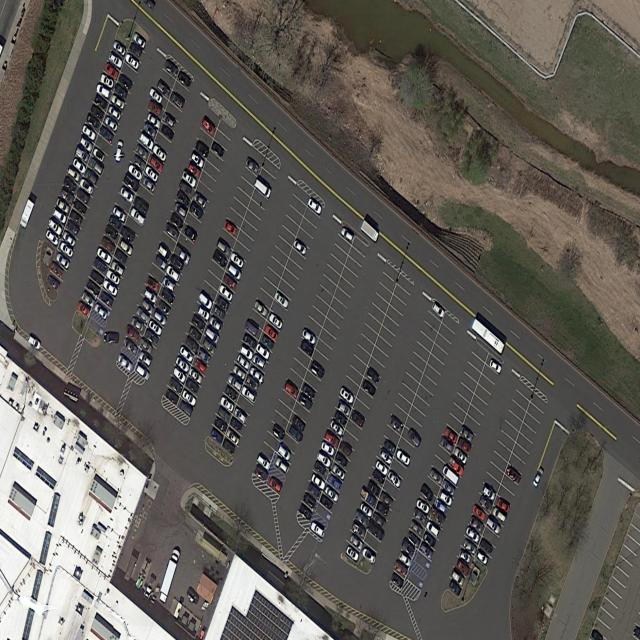large-vehicle: (472, 318, 505, 354), (160, 548, 181, 596), (19, 198, 35, 229), (361, 220, 380, 243)
small-vehicle: (254, 177, 272, 199), (360, 486, 377, 508), (130, 206, 147, 227), (124, 172, 141, 193), (447, 456, 464, 477), (442, 465, 459, 486), (430, 505, 446, 527), (174, 245, 191, 265), (88, 157, 105, 177), (133, 196, 149, 216), (369, 522, 385, 542), (241, 385, 257, 405), (453, 446, 469, 465), (189, 200, 204, 220), (216, 237, 231, 257), (201, 116, 216, 136), (401, 537, 416, 557), (407, 428, 422, 448), (96, 247, 112, 265), (181, 170, 197, 188), (227, 374, 243, 392), (219, 395, 235, 413), (316, 451, 332, 469), (532, 466, 545, 488), (198, 292, 213, 311), (125, 324, 140, 343), (118, 353, 133, 372), (175, 355, 190, 374), (45, 228, 60, 247), (59, 240, 74, 259), (81, 290, 96, 309), (152, 144, 167, 163), (104, 62, 119, 81), (355, 510, 370, 529), (324, 430, 339, 449), (389, 414, 404, 433), (308, 197, 323, 216), (157, 242, 171, 262), (228, 262, 242, 282), (420, 483, 434, 503), (339, 387, 355, 404), (103, 279, 118, 297), (166, 265, 181, 283), (119, 185, 134, 203), (144, 329, 159, 347), (245, 156, 260, 174), (135, 363, 150, 381), (55, 252, 70, 270), (48, 218, 63, 236), (79, 177, 94, 195), (139, 132, 154, 150), (149, 155, 164, 173), (170, 91, 185, 109), (108, 51, 123, 69), (349, 534, 364, 552), (362, 547, 377, 565), (492, 506, 507, 524), (465, 526, 480, 544), (188, 367, 203, 385), (182, 389, 197, 407), (205, 327, 220, 345), (284, 380, 299, 398), (310, 361, 325, 379), (310, 521, 325, 539), (268, 476, 283, 494), (161, 287, 175, 306), (213, 250, 227, 269), (219, 284, 233, 303), (124, 337, 138, 356), (50, 260, 64, 279), (226, 428, 240, 447), (351, 409, 365, 428), (106, 269, 121, 286), (148, 319, 163, 336), (119, 239, 134, 256), (52, 207, 67, 224), (79, 136, 94, 153), (81, 124, 96, 141), (104, 115, 119, 132), (99, 126, 114, 143), (111, 93, 126, 110), (125, 53, 140, 70), (507, 467, 522, 484), (396, 449, 411, 466), (469, 515, 484, 532), (301, 328, 316, 345), (311, 474, 326, 491), (111, 259, 125, 277), (136, 306, 150, 324), (113, 205, 127, 223), (170, 253, 184, 271), (184, 225, 198, 243), (191, 152, 205, 170), (195, 140, 209, 158), (169, 377, 183, 395), (177, 189, 191, 207), (94, 303, 108, 321), (86, 280, 100, 298), (60, 187, 74, 205), (63, 176, 77, 194), (76, 145, 90, 163), (145, 165, 159, 183), (128, 163, 142, 181), (149, 87, 163, 105), (119, 73, 133, 91), (178, 70, 192, 88), (164, 59, 178, 77), (451, 569, 465, 587), (387, 470, 401, 488), (325, 485, 339, 503), (479, 495, 493, 513), (487, 517, 501, 535), (442, 479, 456, 497), (185, 336, 199, 354), (203, 338, 217, 356), (256, 343, 270, 361), (192, 314, 206, 332), (299, 393, 313, 411), (300, 339, 314, 357), (272, 423, 286, 441), (276, 457, 290, 475), (157, 79, 170, 98), (457, 558, 470, 577), (100, 73, 115, 89), (413, 508, 428, 524), (277, 445, 292, 461), (114, 247, 128, 264), (100, 291, 114, 308), (153, 309, 167, 326), (101, 236, 115, 253), (170, 212, 184, 229), (193, 191, 207, 208), (230, 252, 244, 269), (254, 300, 268, 317), (223, 274, 237, 291), (211, 141, 225, 158), (179, 345, 193, 362), (62, 230, 76, 247), (47, 274, 61, 291), (77, 300, 91, 317), (56, 197, 70, 214), (73, 199, 87, 216), (77, 188, 91, 205), (72, 157, 86, 174), (86, 112, 100, 129), (27, 334, 41, 351), (143, 121, 157, 138), (108, 104, 122, 121), (148, 99, 162, 116), (114, 83, 128, 100), (394, 559, 408, 576), (372, 512, 386, 529), (375, 460, 389, 477), (335, 451, 349, 468), (332, 464, 346, 481), (379, 448, 393, 465), (407, 531, 421, 548), (444, 427, 458, 444), (482, 485, 496, 502), (440, 436, 454, 453), (460, 426, 474, 443), (426, 521, 440, 538), (458, 437, 472, 454), (472, 504, 486, 521), (429, 468, 443, 485), (463, 539, 477, 556), (330, 420, 344, 437), (232, 364, 246, 381), (250, 366, 264, 383), (185, 377, 199, 394), (197, 348, 211, 365), (243, 333, 257, 350), (269, 313, 283, 330), (275, 292, 289, 309), (302, 384, 316, 401), (366, 367, 380, 384), (337, 400, 351, 417), (292, 415, 306, 432), (299, 504, 313, 521), (255, 465, 269, 482), (173, 366, 186, 384), (91, 269, 104, 287), (94, 256, 107, 274), (133, 32, 146, 50), (211, 427, 224, 445), (308, 482, 321, 500), (303, 492, 316, 510), (96, 83, 111, 98), (415, 499, 430, 514), (144, 288, 158, 304), (165, 223, 179, 239), (121, 226, 135, 242), (67, 166, 81, 182), (94, 94, 108, 110), (147, 113, 161, 129), (162, 112, 176, 128), (113, 40, 127, 56), (352, 522, 366, 538), (346, 546, 360, 562), (328, 475, 342, 491), (496, 497, 510, 513), (439, 491, 453, 507), (194, 358, 208, 374), (341, 227, 355, 243), (321, 441, 335, 457), (188, 162, 201, 179), (166, 388, 179, 405), (140, 337, 153, 354), (85, 168, 98, 185), (161, 123, 174, 140), (449, 579, 462, 596), (420, 542, 433, 559), (339, 440, 352, 457), (372, 469, 385, 486), (380, 491, 393, 508), (423, 531, 436, 548), (410, 519, 423, 536), (480, 538, 493, 555), (246, 375, 259, 392), (225, 385, 238, 402), (234, 407, 247, 424), (237, 353, 250, 370), (240, 344, 253, 361), (265, 324, 278, 341), (363, 379, 376, 396), (290, 425, 303, 442), (320, 494, 333, 511), (91, 103, 104, 120), (431, 303, 445, 318), (66, 220, 80, 235), (214, 417, 228, 432), (163, 276, 176, 292), (158, 299, 171, 315), (174, 202, 187, 218), (131, 316, 144, 332), (224, 220, 237, 236), (139, 351, 152, 367), (136, 144, 149, 160), (129, 42, 142, 58), (217, 295, 230, 311), (391, 573, 404, 589), (360, 502, 373, 518), (383, 439, 396, 455), (367, 481, 380, 497), (334, 410, 347, 426), (262, 335, 275, 351), (245, 320, 258, 336), (189, 326, 202, 342), (209, 316, 222, 332), (294, 239, 307, 255), (223, 439, 236, 455), (257, 454, 270, 470), (142, 298, 154, 315), (155, 254, 167, 271), (143, 176, 155, 193), (109, 215, 122, 230), (105, 224, 118, 239), (180, 401, 193, 416), (179, 180, 192, 195), (70, 210, 83, 225), (133, 155, 146, 170), (213, 306, 226, 321), (398, 552, 411, 567), (459, 549, 472, 564), (489, 359, 502, 374), (253, 354, 266, 369), (93, 147, 105, 163), (377, 501, 389, 517), (477, 550, 489, 566), (218, 407, 230, 423), (314, 460, 326, 476), (147, 277, 159, 292), (198, 306, 210, 321), (231, 417, 243, 432), (115, 140, 123, 162), (435, 499, 447, 513), (104, 332, 119, 342)
